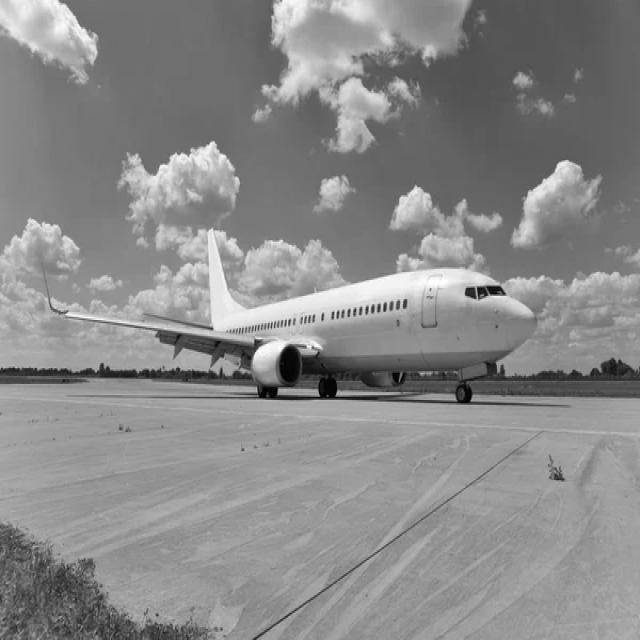Aircraft: (70, 204, 556, 448)
